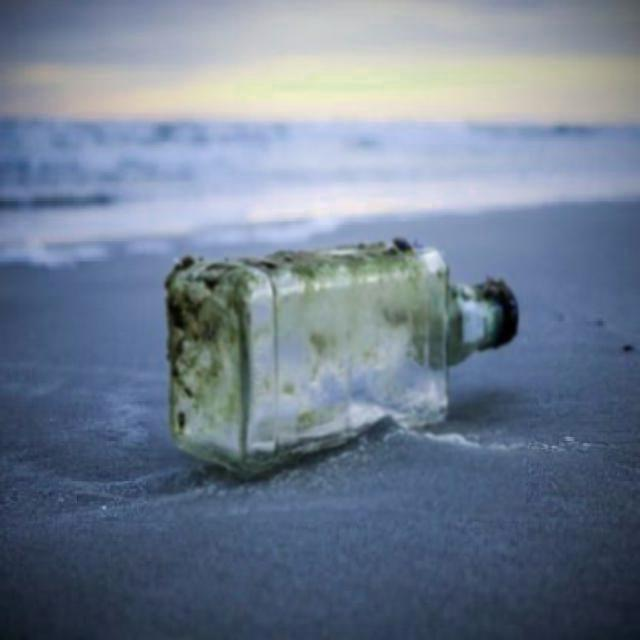Glass: (158, 244, 527, 478)
